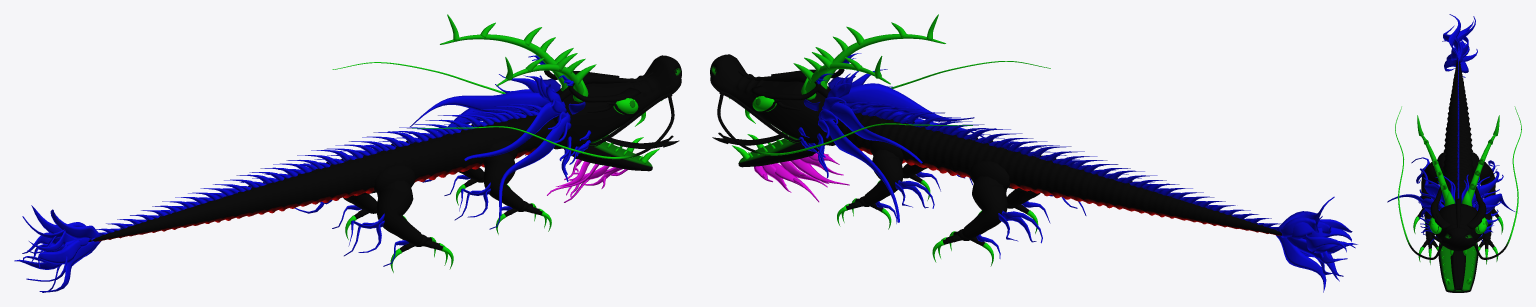
File: dragon300.glb
3 renders of one model, left to right at view 1: azimuth 30°, elevation 25°; view 2: azimuth 150°, elevation 25°; view 3: azimuth 270°, elevation 25°, orthographic. The views are drawn at different scales.
Parts seen in each view (by area): view 1: d300-dragon; view 2: d300-dragon; view 3: d300-dragon.
Part boxes in pixels (<box>): d300-dragon: <box>14,14,681,292</box>; d300-dragon: <box>710,14,1357,292</box>; d300-dragon: <box>1387,14,1521,292</box>.
Bounding box in the file's own units: 32 × 9.41 × 8.12.
